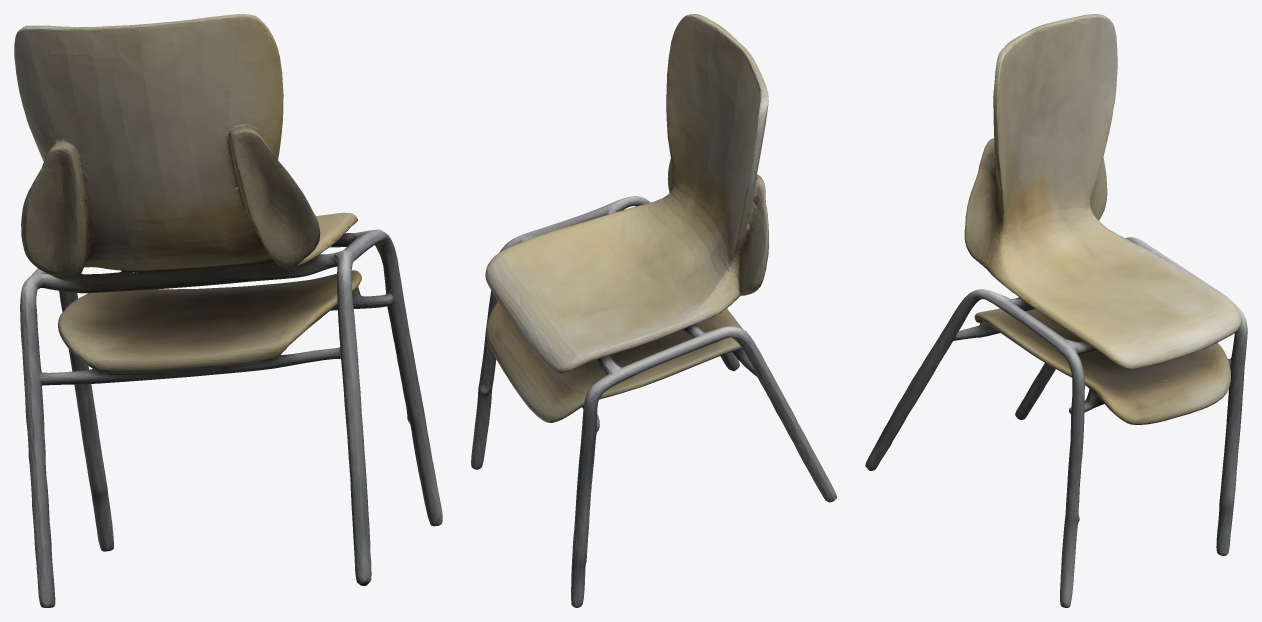
The model's file is stack_of_grey_chairs_against_back_wall_000.glb.
3 renders of one model, left to right at view 1: azimuth 30°, elevation 25°; view 2: azimuth 150°, elevation 25°; view 3: azimuth 270°, elevation 25°, orthographic. The views are drawn at different scales.
Parts seen in each view (by area): view 1: stack_of_grey_chairs_against_back_wall_000.obj; view 2: stack_of_grey_chairs_against_back_wall_000.obj; view 3: stack_of_grey_chairs_against_back_wall_000.obj.
Part boxes in pixels (x1,y1,x2,y2): stack_of_grey_chairs_against_back_wall_000.obj: (14,14,442,607); stack_of_grey_chairs_against_back_wall_000.obj: (471,14,836,607); stack_of_grey_chairs_against_back_wall_000.obj: (865,14,1247,607).
Bounding box in the file's own units: 0.4455 × 0.6367 × 0.443.
Materials: 1 (1 with a texture image).
